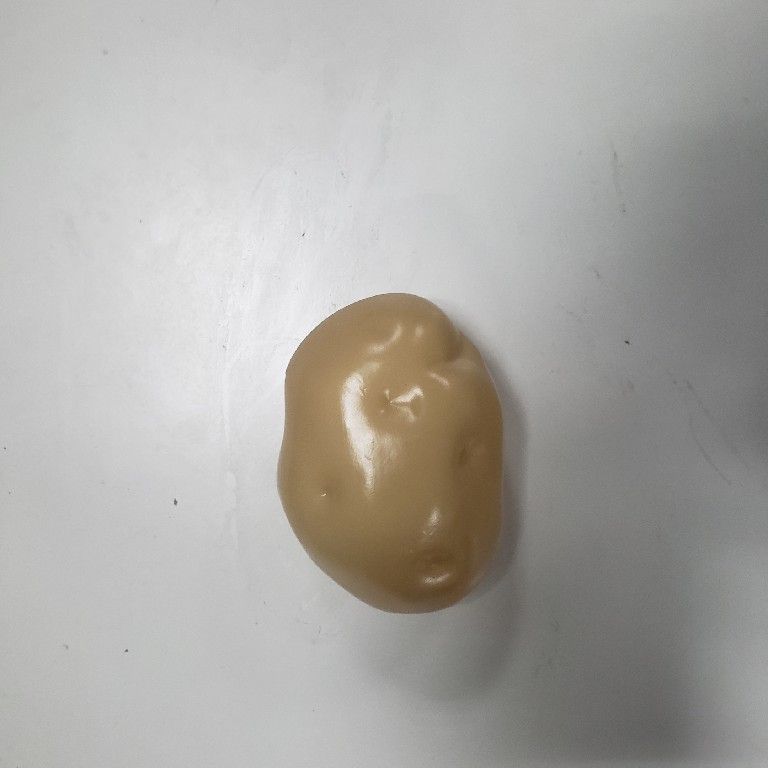fruit_potato: (272, 289, 513, 620)
